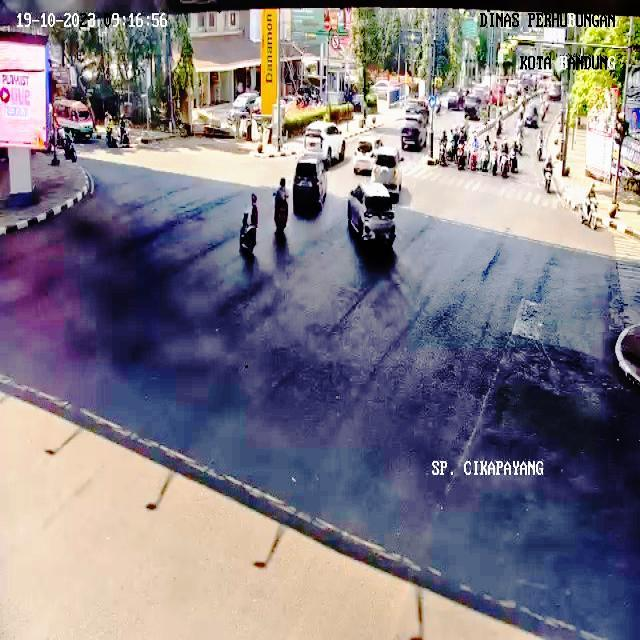car: (348, 182, 395, 246), (292, 152, 328, 214), (304, 121, 345, 167), (371, 146, 401, 202), (401, 105, 428, 151), (354, 140, 374, 174)
motorcyclist: (239, 194, 259, 257), (274, 178, 289, 236), (455, 130, 466, 169), (480, 135, 490, 172), (441, 131, 452, 161), (439, 131, 448, 166), (490, 142, 499, 176), (500, 151, 510, 178), (544, 160, 552, 192), (536, 129, 544, 161), (469, 136, 476, 171), (510, 142, 516, 173)
